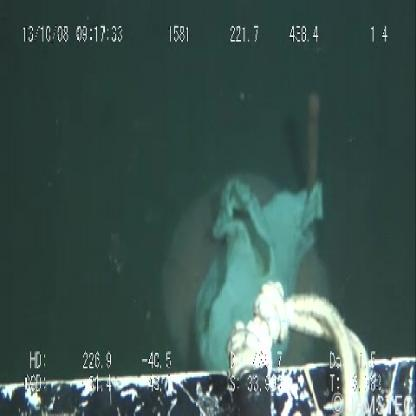Rov: (1, 291, 416, 416)
Rác: (200, 180, 333, 298)
